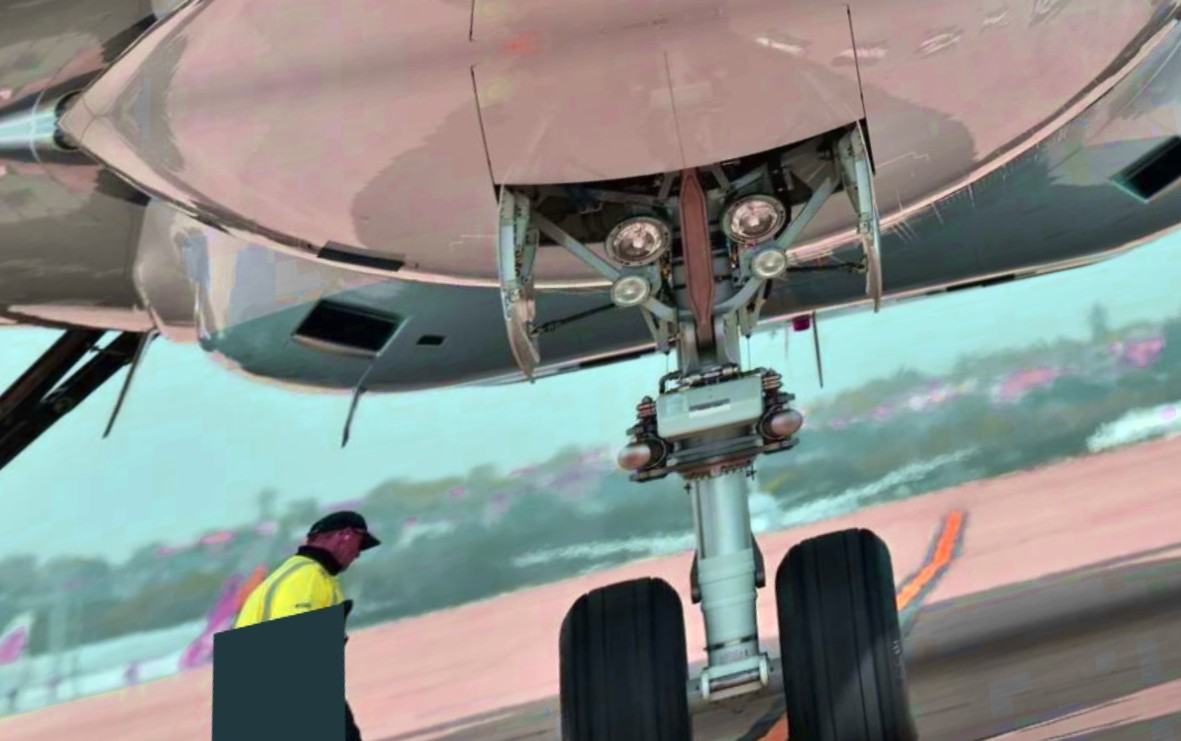wheel: (751, 516, 934, 741), (518, 566, 727, 741)
